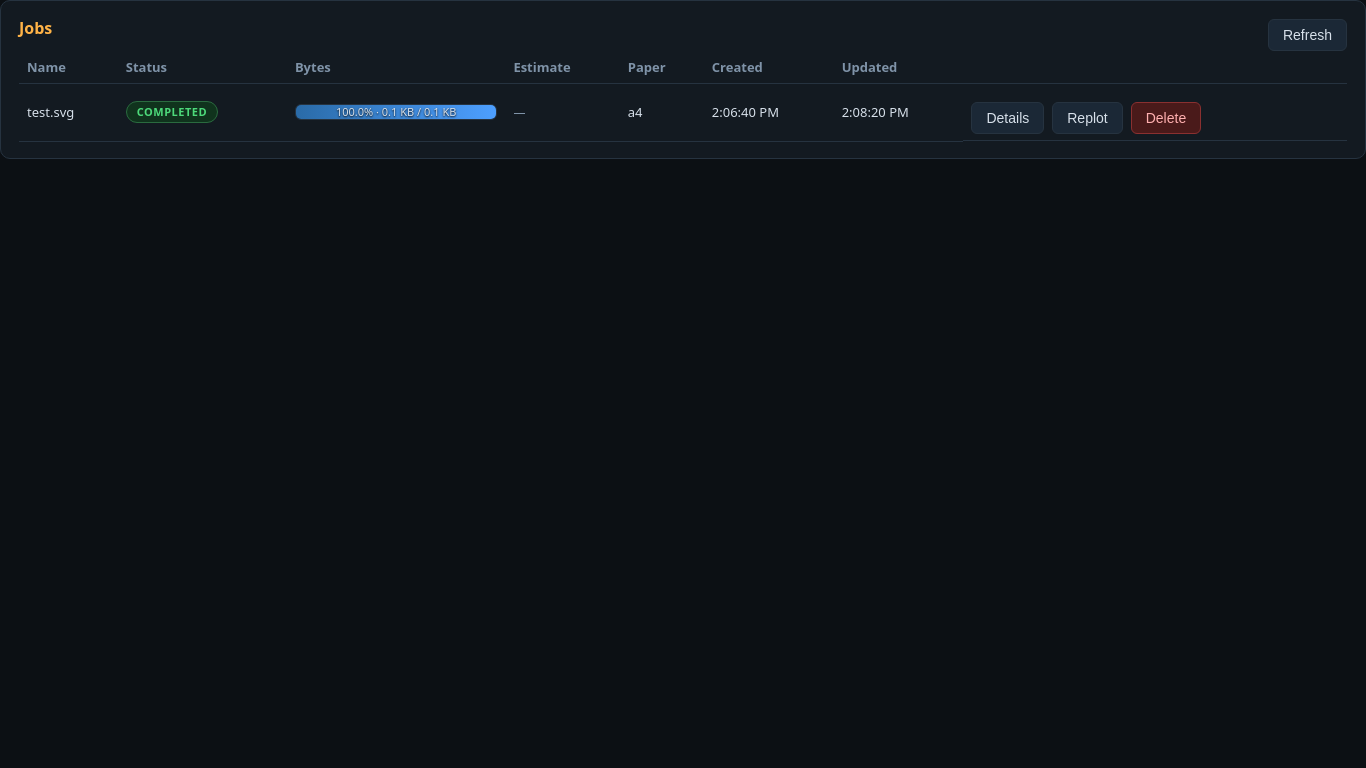
JobsPage › replot creates a duplicate job
Click the button "Replot" at (1088, 118), box left=1052, top=102, right=1123, bottom=134
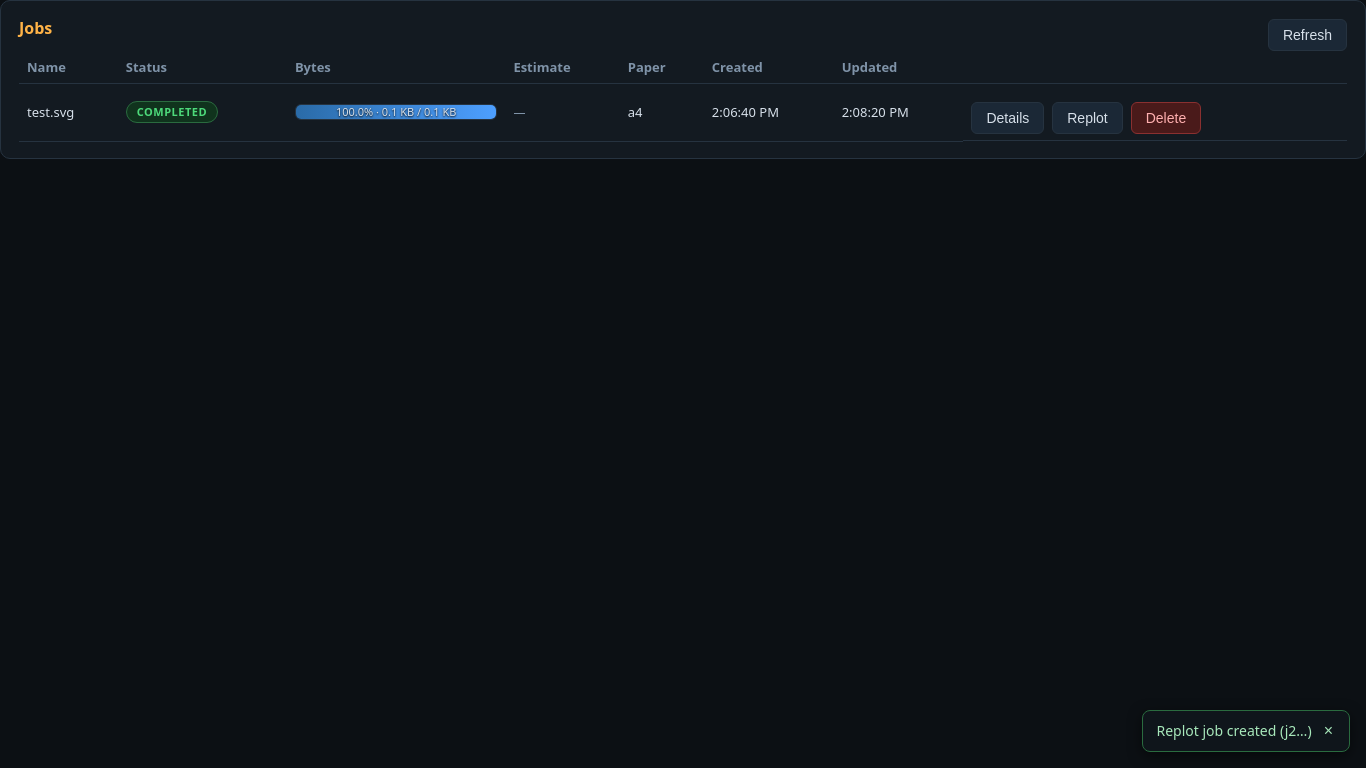
Now the text "Replot job created (j2…)" is shown, box left=1156, top=721, right=1312, bottom=741
